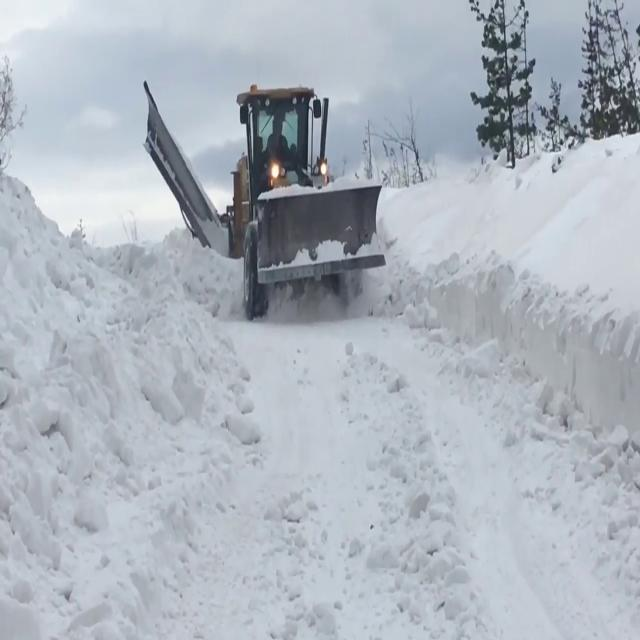buldozerpayloadergrader: (141, 85, 388, 323)
